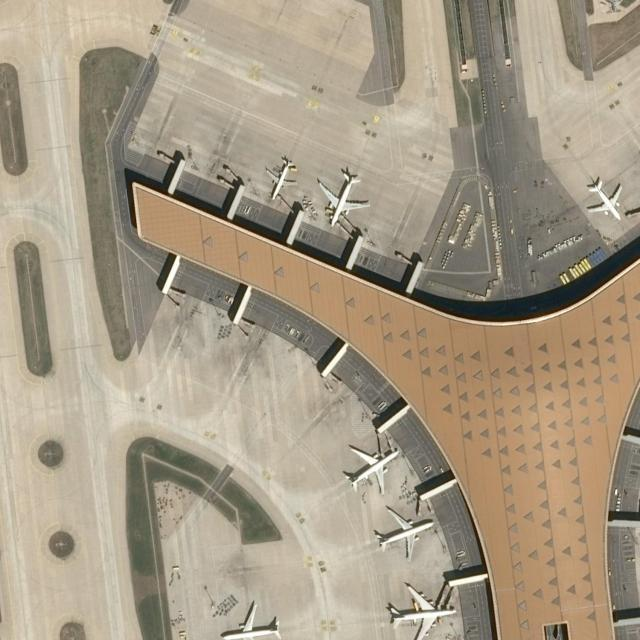Aircraft: (385, 581, 458, 640), (341, 436, 405, 495), (371, 505, 439, 555), (316, 165, 372, 225), (218, 603, 284, 640), (583, 172, 625, 220), (263, 158, 301, 201)
